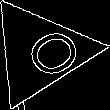O_SW: (3, 20, 77, 85)
